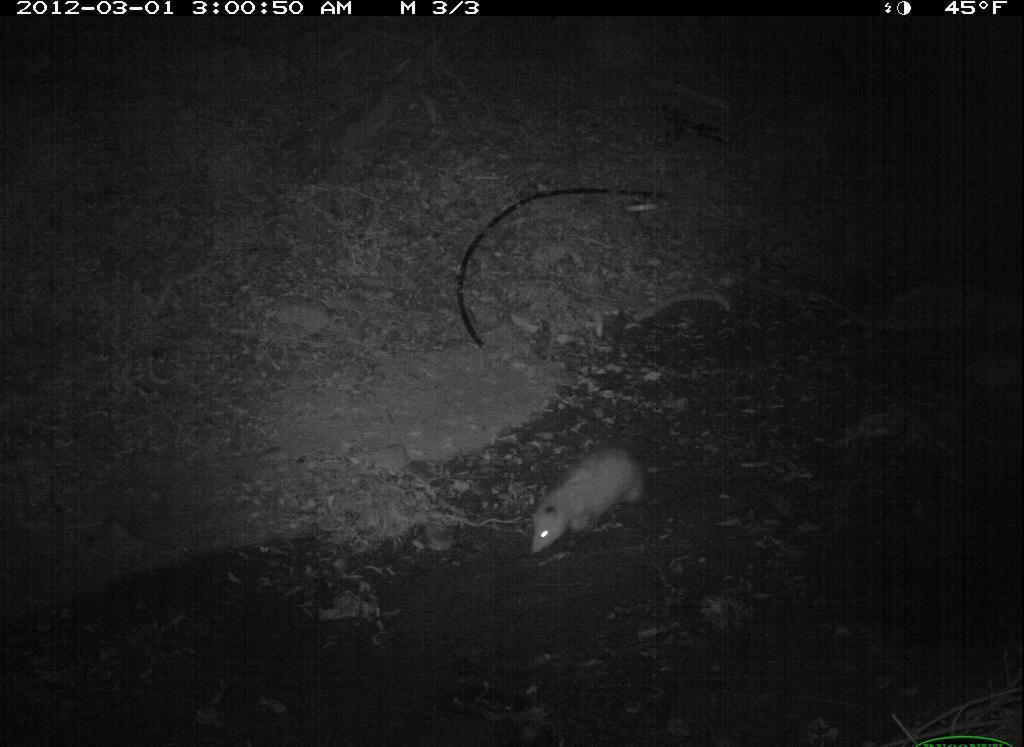opossum: (509, 437, 676, 579)
